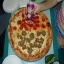olives: (15, 32, 45, 51)
pepperoni: (15, 19, 48, 29)
pizza: (8, 8, 51, 58)
